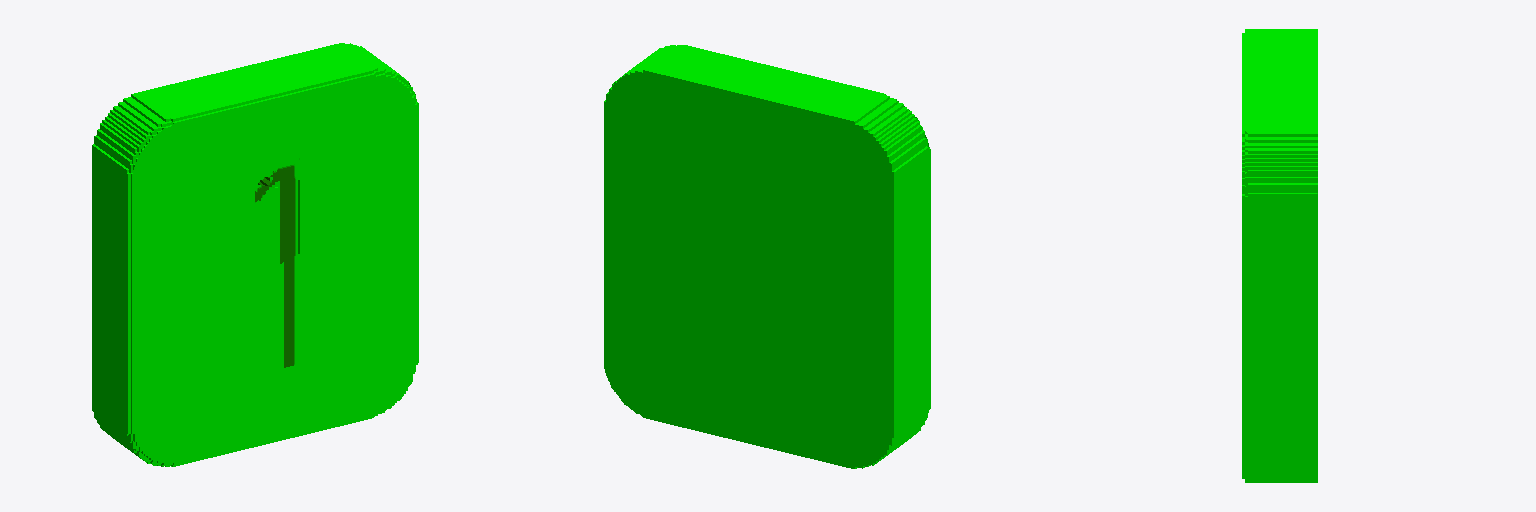
3 views of the same model, side by side, from view 1: azimuth 30°, elevation 25°; view 2: azimuth 150°, elevation 25°; view 3: azimuth 270°, elevation 25° (orthographic).
Visible parts, largest first — view 1: SandyForms-1-v10; view 2: SandyForms-1-v10; view 3: SandyForms-1-v10.
Boxes of the visible parts, x1=… form: SandyForms-1-v10: x1=92, y1=43, x2=418, y2=466; SandyForms-1-v10: x1=604, y1=45, x2=930, y2=468; SandyForms-1-v10: x1=1242, y1=29, x2=1317, y2=482.
Bounding box in the file's own units: 17.52 × 20.04 × 3.95.
1 materials, 1 textured.